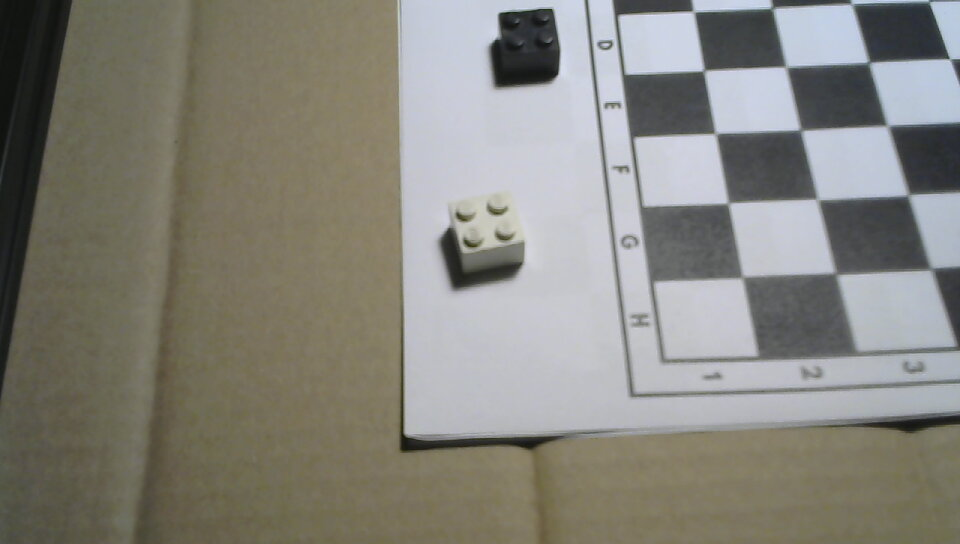wp: (435, 189, 537, 291)
